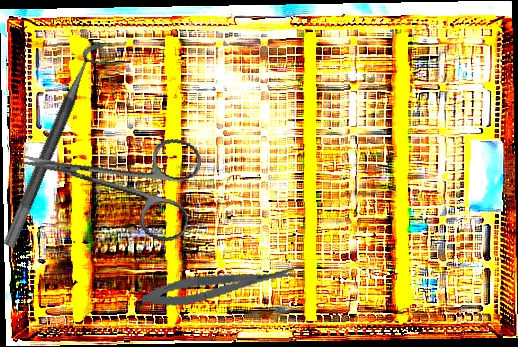Fixation Ring: (1, 38, 119, 256)
Iris Scissors: (12, 105, 206, 246)
Micro Scissor: (139, 259, 305, 313)
